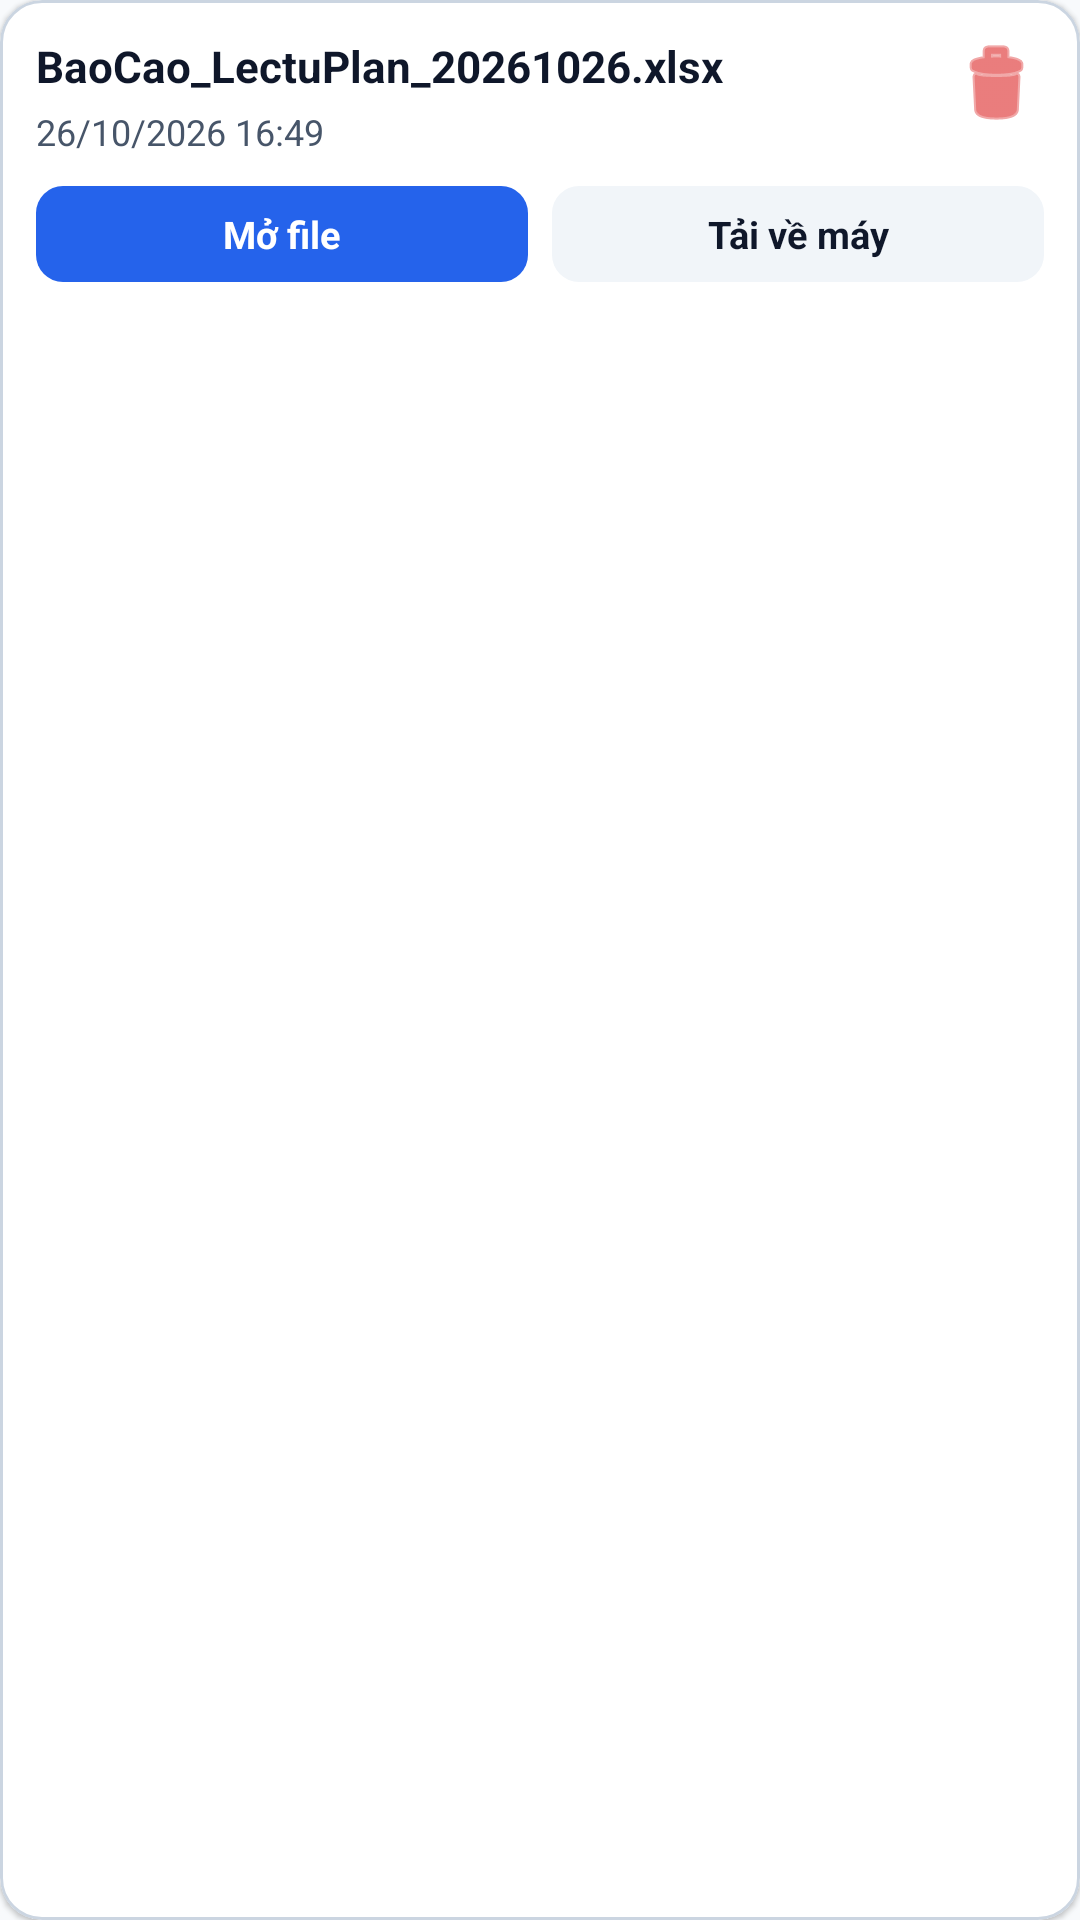

Icon bounding boxes for this 1080 × 1920 phone screenshot, format (x1, y1, x2, y2):
Xóa lịch sử: (969, 45, 1024, 120)
